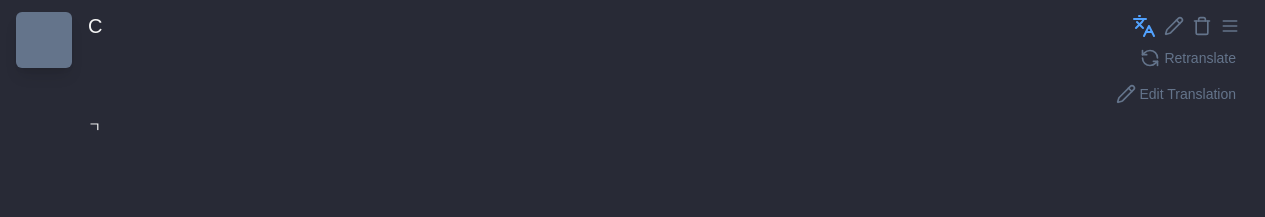
the stored path: the full editor › an open editor keeps its Save and Cancel when the settings switch to the rendered path meanwhile, and saves to the target it opened on
The image size is (1265, 217).
Click the button "Edit Translation" at (1176, 94), box x1=1112 y1=80 x2=1240 y2=108
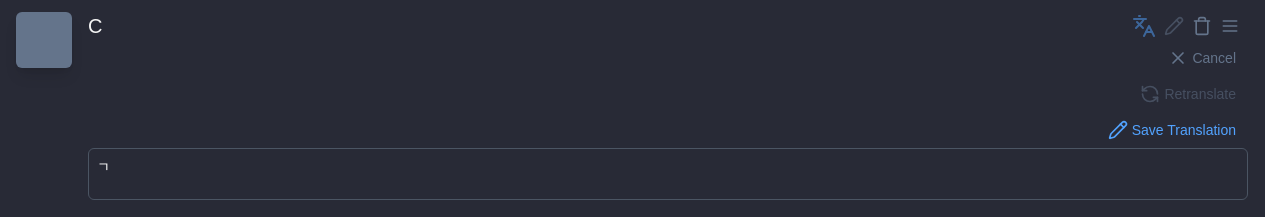
Replace the text in the text box with "ㄹ" at (668, 174), box x1=88 y1=148 x2=1248 y2=200
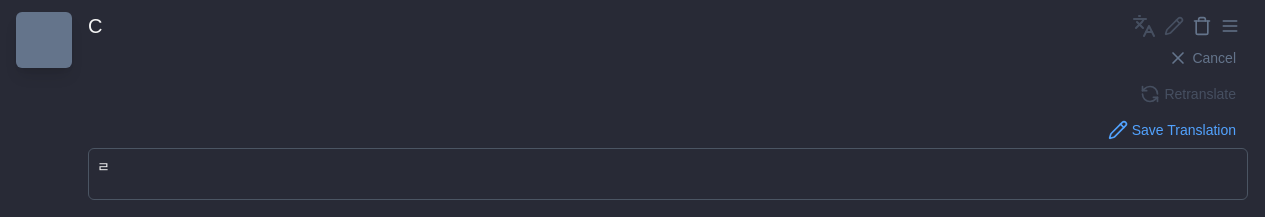
Check: the button "Cancel" is shown, box x1=1164 y1=44 x2=1240 y2=72
Click the button "Save Translation" at (1172, 130), box x1=1104 y1=116 x2=1240 y2=144
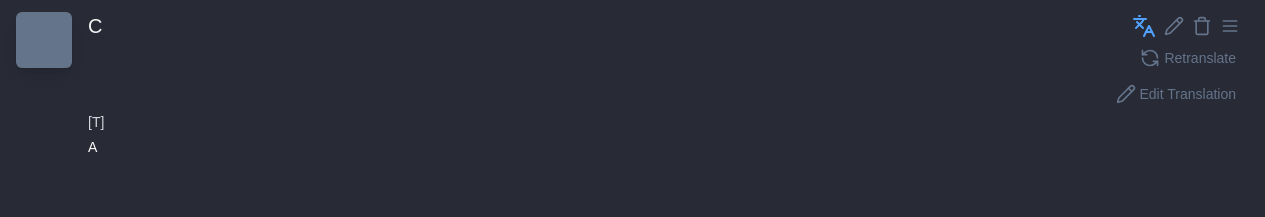
Check: the text box is gone
